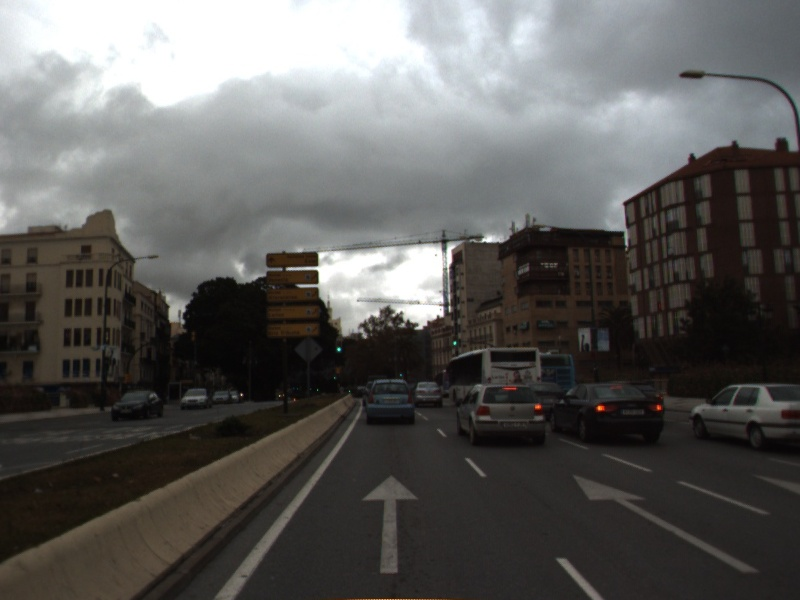STRAIGHT: (570, 472, 763, 575), (359, 472, 421, 576)
